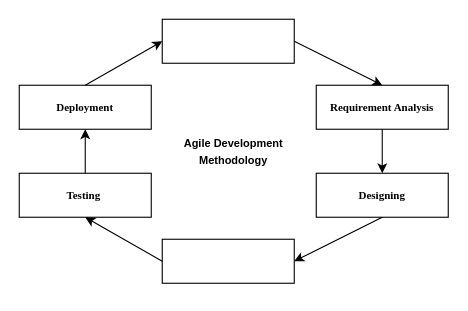
Some shapes in this 468 by 311 pixel diagram are drawn without their labels. Each missing label, with the centre of its shape:
Implementation: point 227,260
Planning: point 227,40
